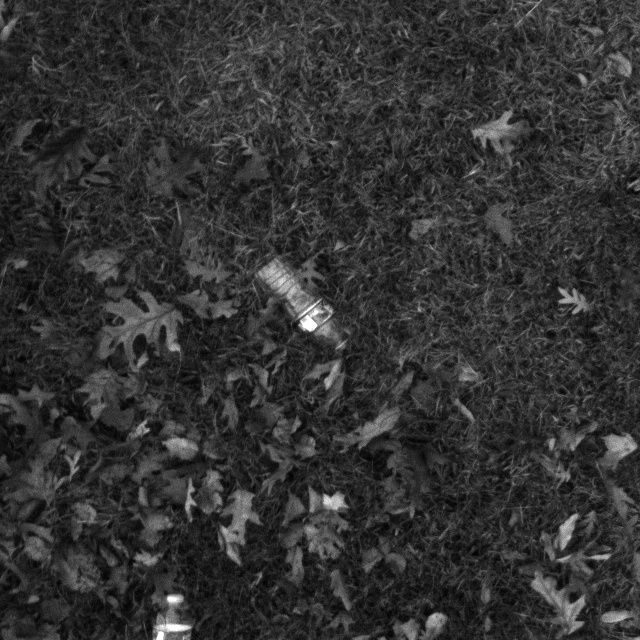bottle: (253, 237, 358, 368), (131, 587, 201, 640)
